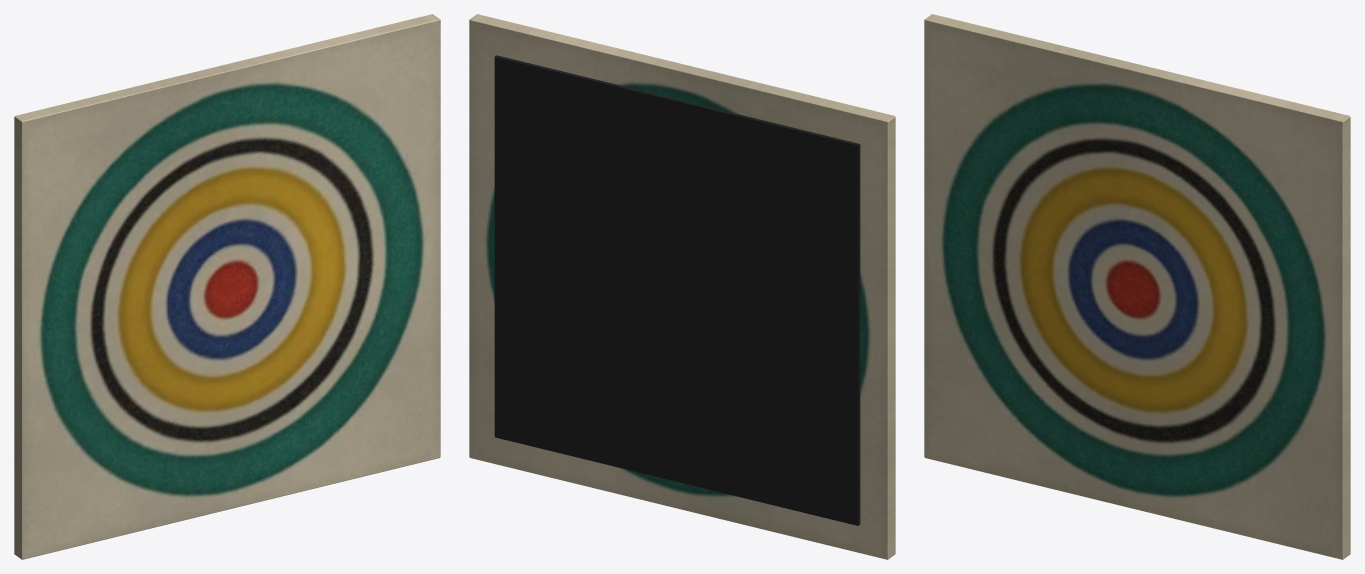
Rendered from art_target.gltf.
3 views of the same model, side by side, from view 1: azimuth 30°, elevation 25°; view 2: azimuth 150°, elevation 25°; view 3: azimuth 330°, elevation 25° (orthographic).
Parts seen in each view (by area): view 1: Art_Target_Art; view 2: Art_Target_Spacer, Art_Target_Art; view 3: Art_Target_Art.
Part boxes in pixels (x1,y1,x2,y2): Art_Target_Art: (14, 14, 440, 559); Art_Target_Spacer: (494, 55, 860, 525); Art_Target_Art: (469, 14, 895, 559); Art_Target_Art: (924, 14, 1350, 559).
Size of the model in its own units: 1.2 by 1.2 by 0.05.
Materials: 2 (1 with a texture image).
